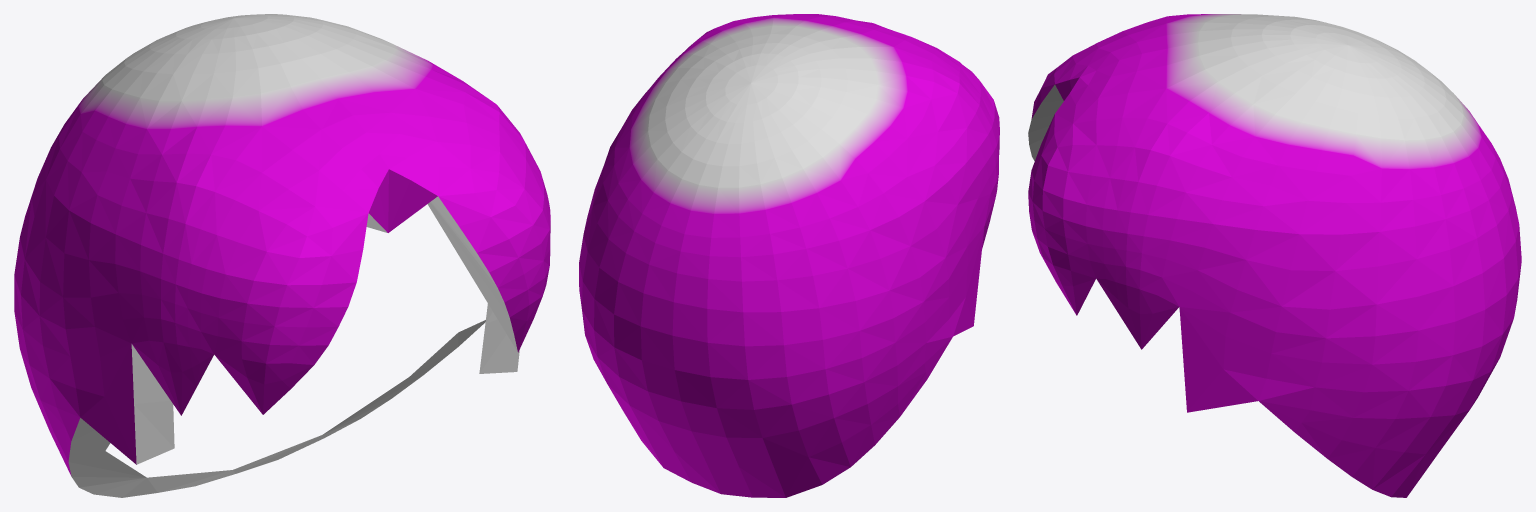
The model's file is hair_67.glb.
The picture shows the model from 3 angles, left to right: view 1: azimuth 30°, elevation 25°; view 2: azimuth 150°, elevation 25°; view 3: azimuth 270°, elevation 25°; orthographic projection. The views are drawn at different scales.
Parts seen in each view (by area): view 1: shape; view 2: shape; view 3: shape.
Boxes of the visible parts, box(x1,y1,x2,y2) form: shape: box(14, 14, 550, 497); shape: box(579, 14, 999, 497); shape: box(1028, 14, 1521, 497).
Bounding box in the file's own units: 55.43 × 64.07 × 65.21.
